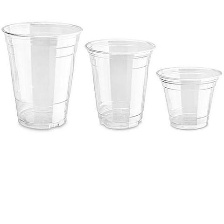glass: (0, 18, 89, 133), (81, 35, 161, 132), (151, 61, 224, 132)
